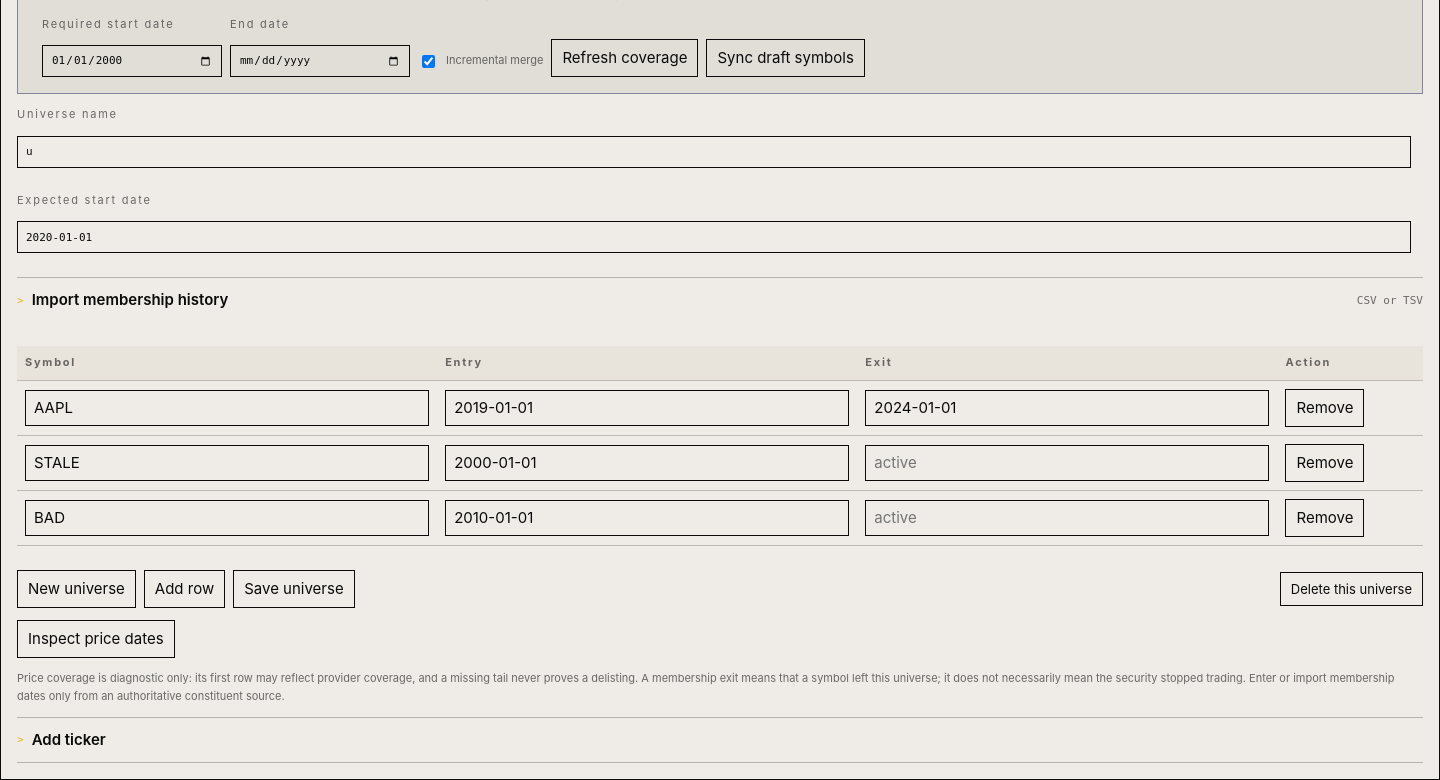
Test: UniverseEditorPage › preserves memberships when stale prices cannot verify a delisting
(page scrolled)
Click the button with test id "sync-membership-dates" at (96, 639), box [17,620,175,658]
(page scrolled)
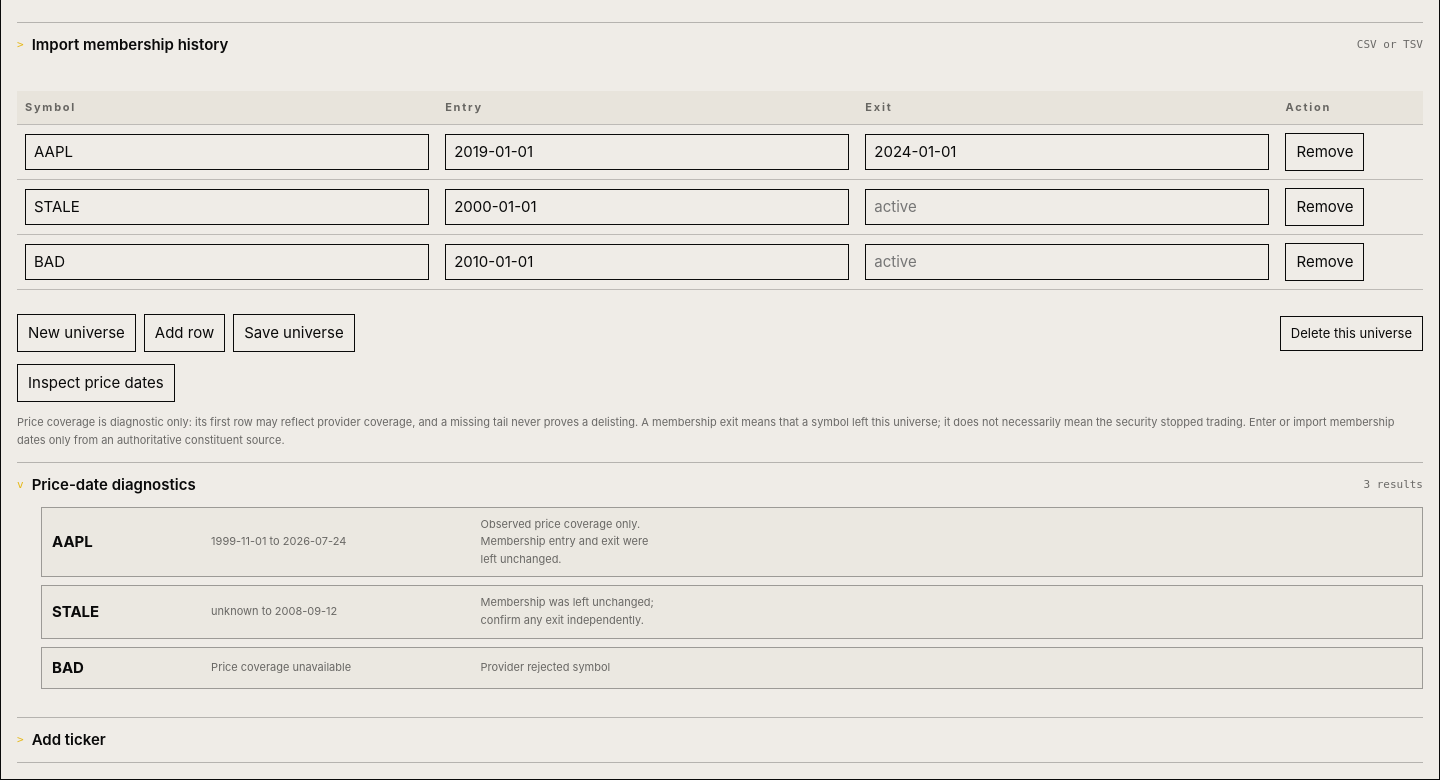
Expected: the list with test id "stale-membership-list" is shown, [41,507,1423,689]
Expected: the list with test id "stale-membership-list" shows "1999-11-01 to 2026-07-24", [211,534,346,548]
Expected: the text "STALE" is shown, [52,602,99,621]
